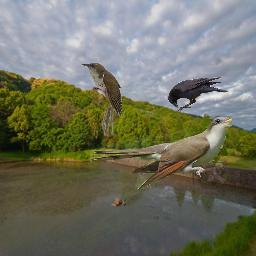Crow: (168, 77, 229, 112)
Cuckoo: (90, 116, 232, 189), (81, 62, 122, 136)
